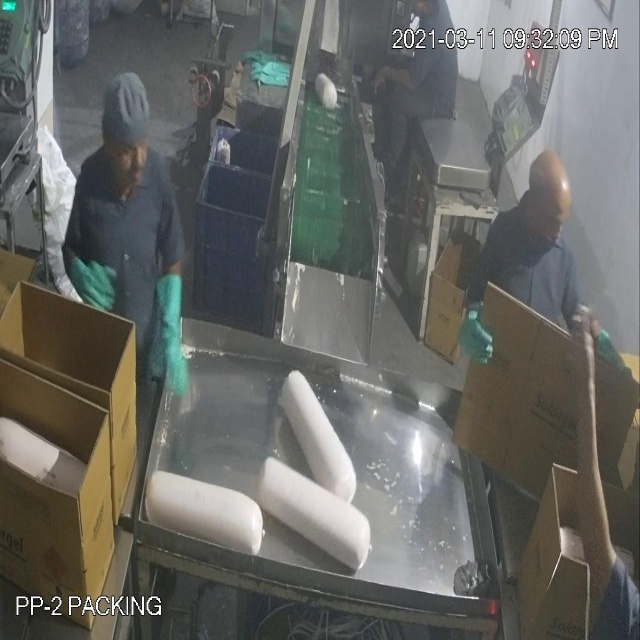Guantes: (139, 260, 196, 406), (458, 299, 504, 385)
Sin_guantes: (571, 298, 626, 595), (368, 56, 421, 109)
